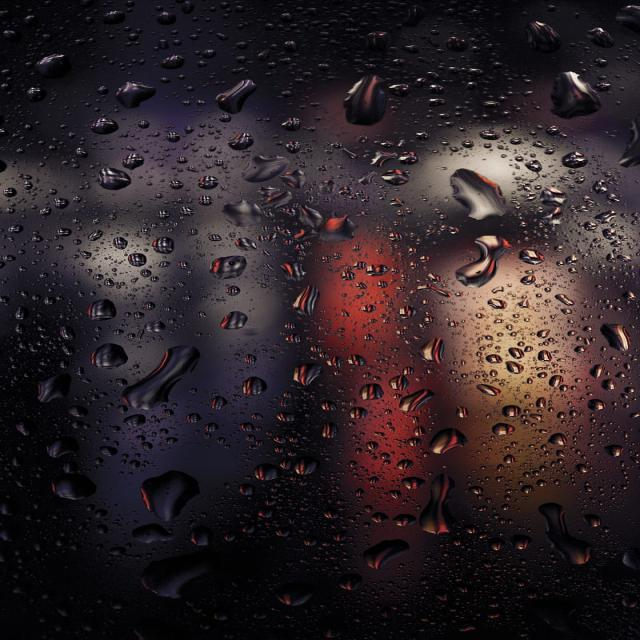raindrop: (107, 340, 216, 420), (326, 64, 408, 136), (536, 66, 623, 129), (133, 465, 212, 533), (441, 164, 522, 230), (442, 224, 518, 294), (408, 461, 466, 548), (227, 147, 305, 186), (405, 325, 463, 377), (268, 278, 333, 324), (420, 422, 482, 462), (216, 194, 280, 230), (592, 318, 640, 364), (208, 248, 263, 288), (74, 164, 142, 196)
